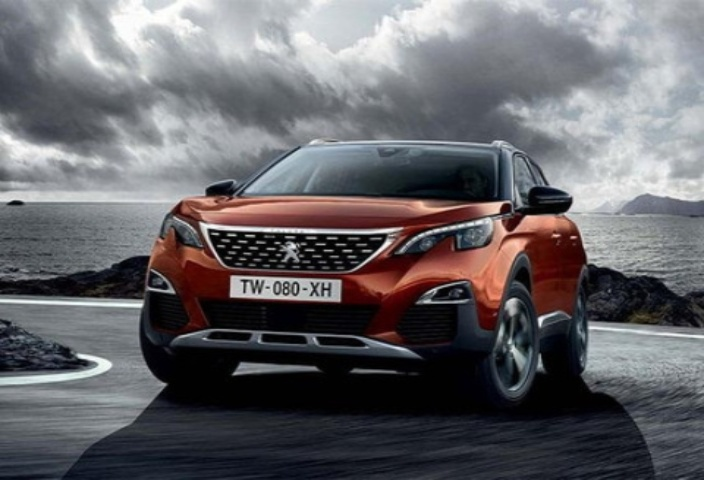camper: (74, 90, 610, 425)
